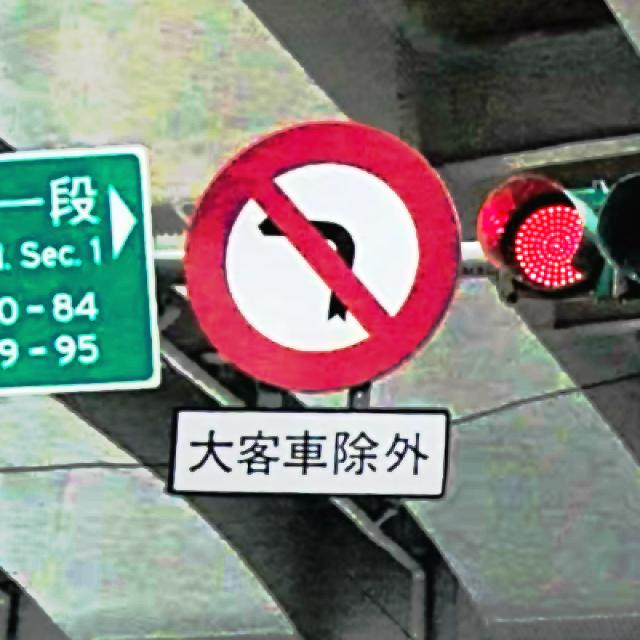noturnleft: (182, 120, 464, 395)
